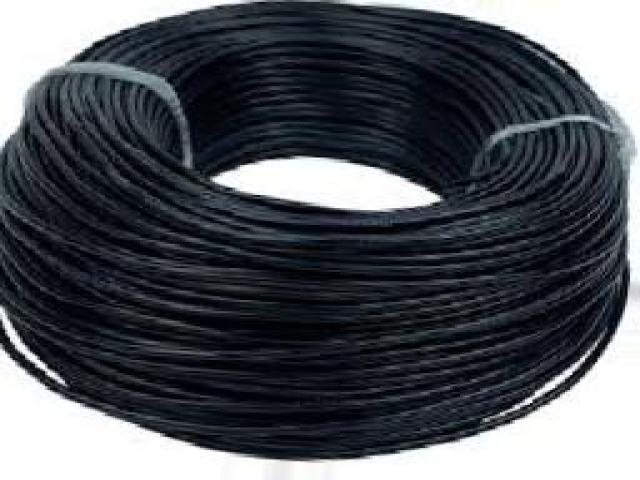wire: (0, 5, 630, 459)
